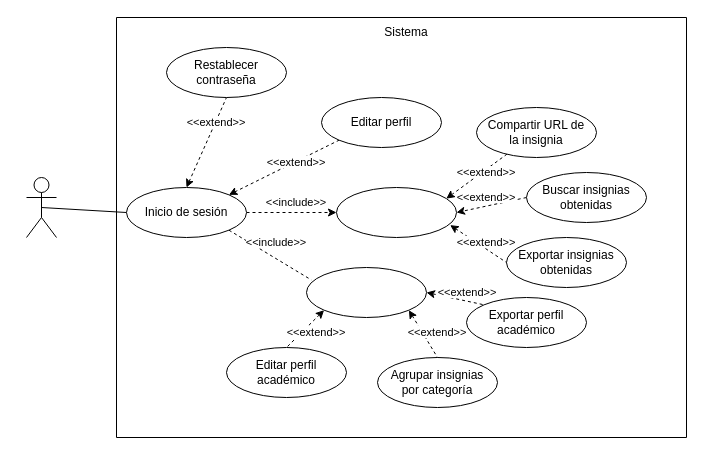
This 704x455 diagram has some shape labels left out. Here are the shapes that lost their labels. From the top down, the centre of each, then its label:
At (x=41, y=207): "Receptor".
At (x=396, y=212): "Gestión de insignias digitales".
At (x=366, y=292): "Visualizar perfil académico".
